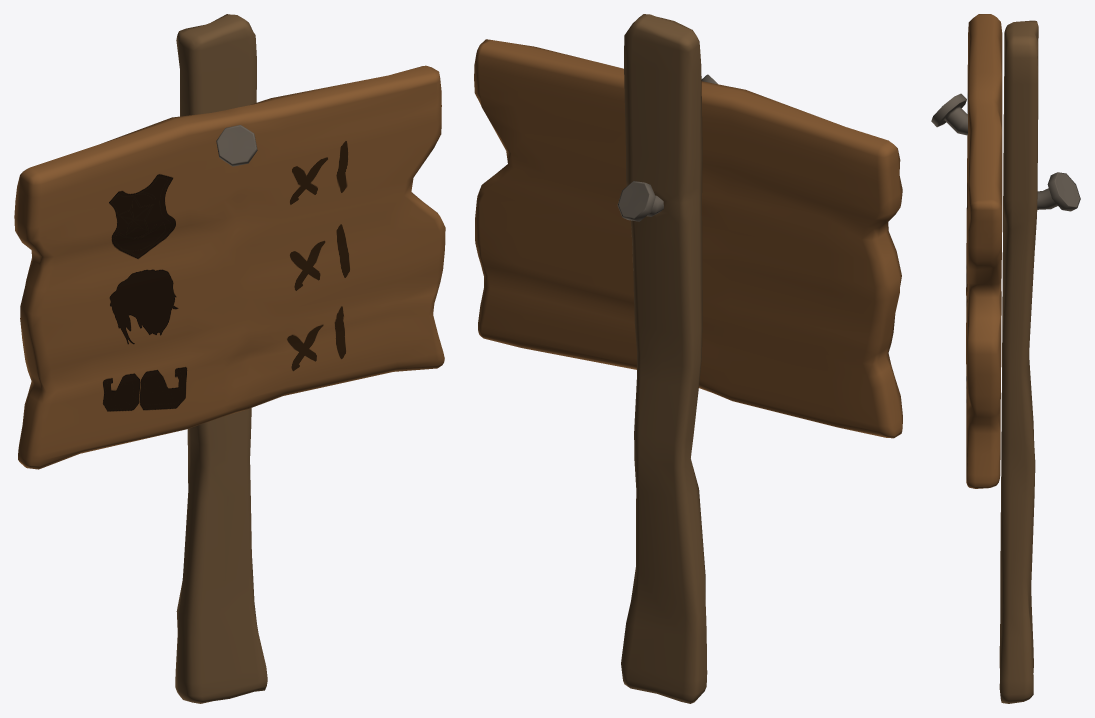
Rendered from Monument_sign.fbx.
The picture shows the model from 3 angles, left to right: view 1: azimuth 30°, elevation 25°; view 2: azimuth 150°, elevation 25°; view 3: azimuth 270°, elevation 25°; orthographic projection. The views are drawn at different scales.
Visible parts, largest first — view 1: Sign, Pole, Nail01; view 2: Sign, Pole, Nail02; view 3: Pole, Sign, Nail02, Nail01.
Part boxes in pixels (<box>): Sign: <box>14,65,445,469</box>; Pole: <box>175,14,267,703</box>; Nail01: <box>216,125,257,166</box>; Sign: <box>474,39,902,438</box>; Pole: <box>621,14,707,703</box>; Nail02: <box>617,181,663,221</box>; Pole: <box>999,20,1038,703</box>; Sign: <box>966,14,1002,488</box>; Nail02: <box>1037,172,1080,211</box>; Nail01: <box>931,93,967,135</box>.
Size of the model in its own units: 3893 by 5993 by 1232.
